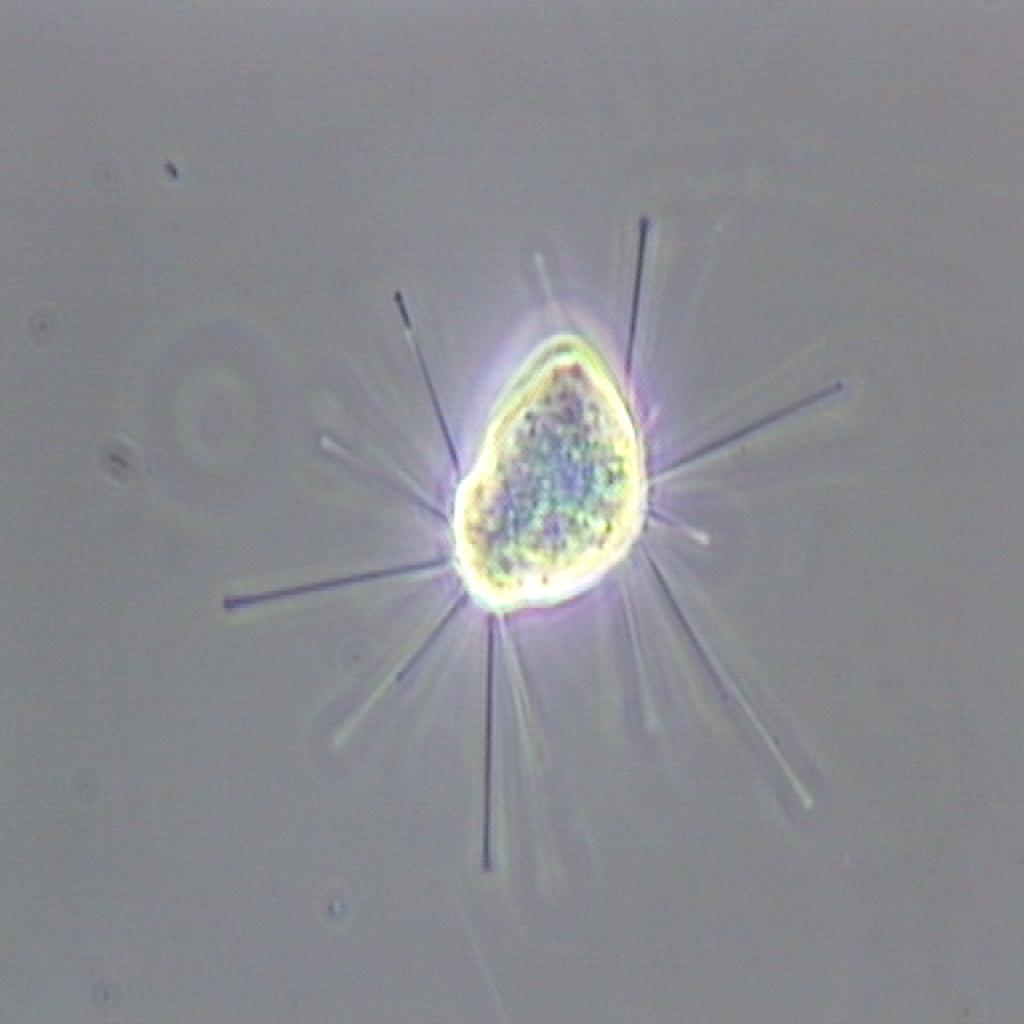Suctorida: (118, 158, 922, 904)
